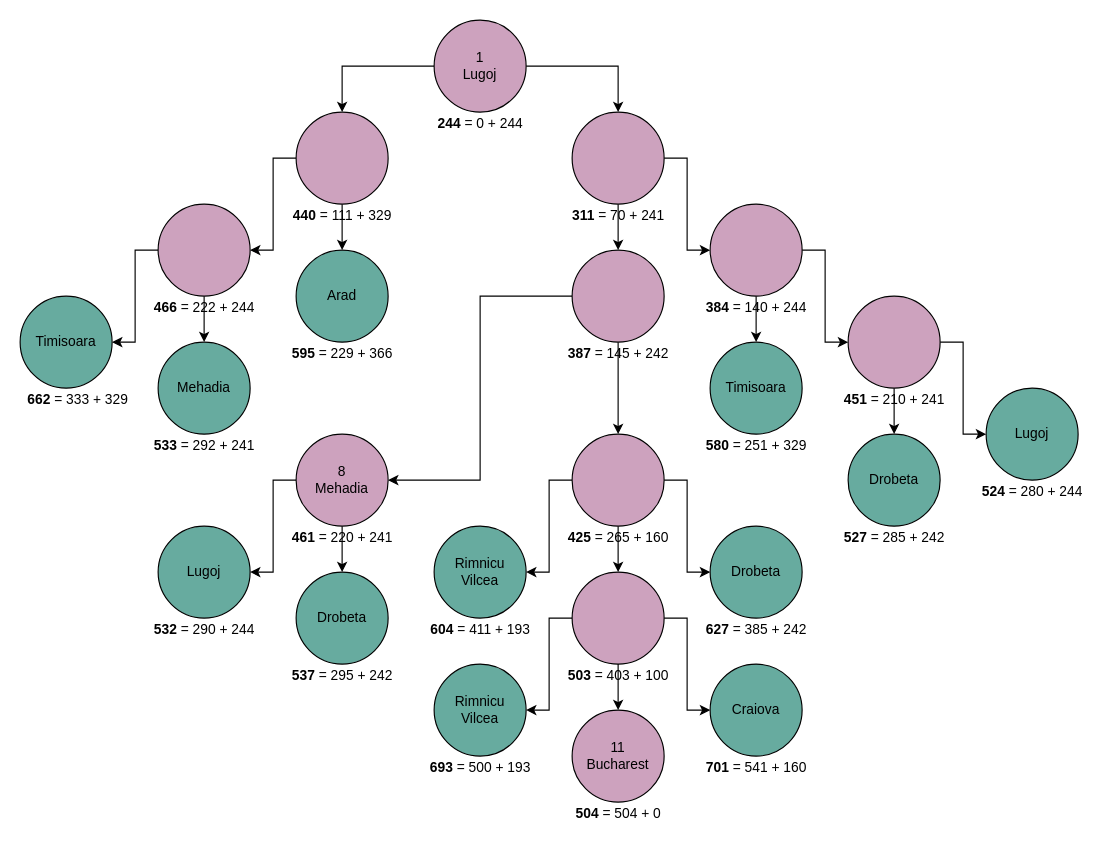
Some shapes in this 1110 by 845 pixel diagram are drawn without their labels. Each missing label, with the centre of its shape:
10 Pitesti: (x=617, y=617)
2 Mehadia: (x=617, y=157)
3 Lugoj: (x=755, y=249)
4 Drobeta: (x=617, y=295)
5 Craiova: (x=617, y=479)
6 Timisoara: (x=341, y=157)
7 Mehadia: (x=893, y=341)
9 Lugoj: (x=203, y=249)
